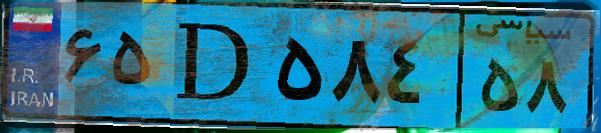4: (385, 28, 445, 110)
5: (270, 28, 330, 110), (475, 38, 525, 113), (110, 28, 158, 98)
6: (57, 26, 110, 100)
8: (330, 28, 385, 110), (525, 38, 570, 115)
D: (158, 12, 270, 120)
